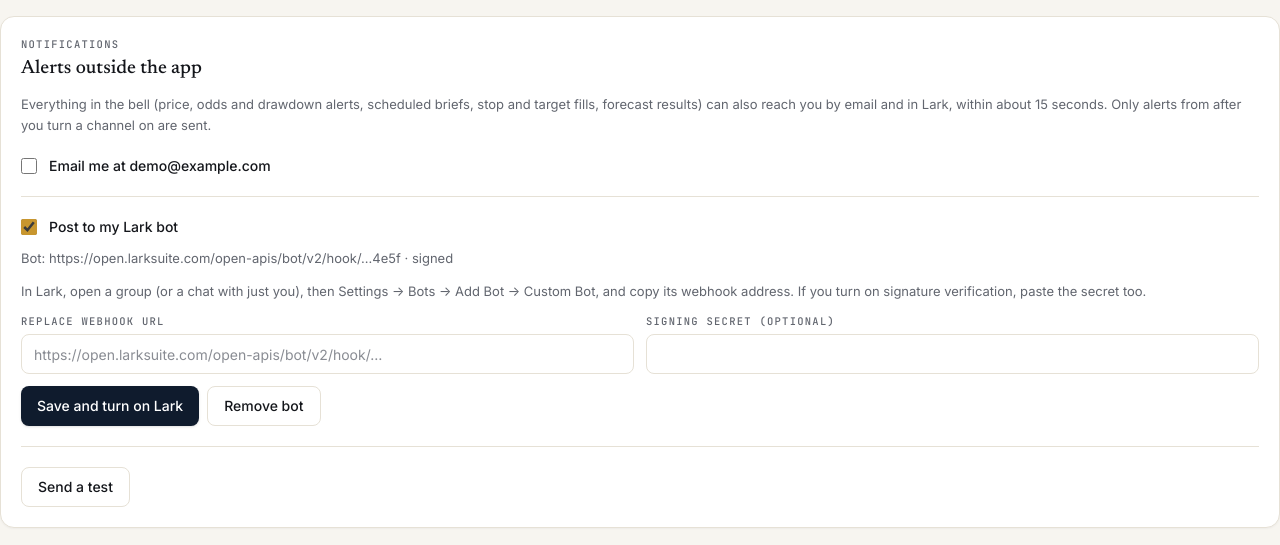
Test: Account notifications › sends a test and shows each channel outcome
The width and height of the screenshot is (1280, 545).
Click the button "Send a test".
click(75, 487)  # box [21, 467, 130, 507]
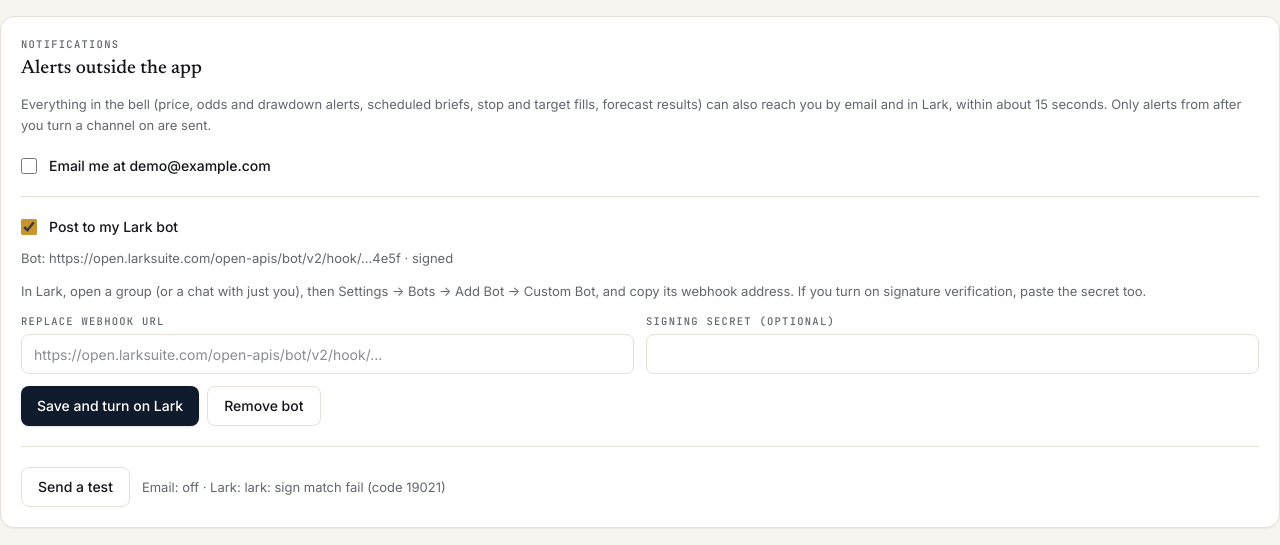
Now the text "Email: off · Lark: lark: sign match fail (code 19021)" is shown, box [142, 478, 446, 497]
